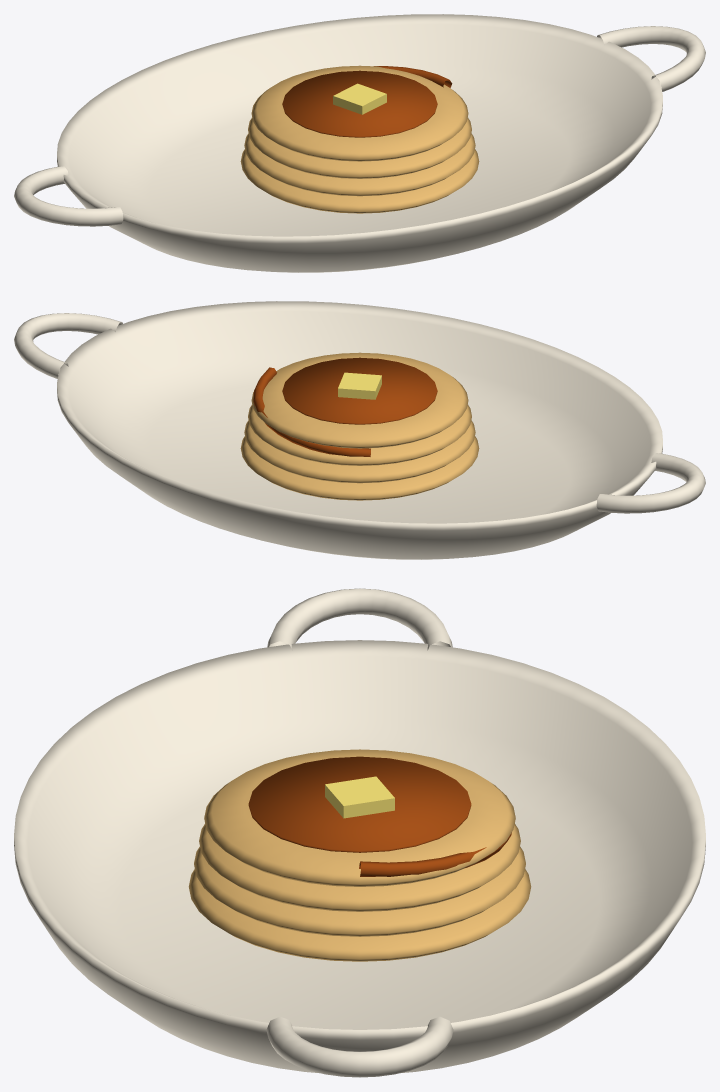
File: meal_pancake_stack_serving.glb
3 views of the same model, one above another, from view 1: azimuth 30°, elevation 25°; view 2: azimuth 150°, elevation 25°; view 3: azimuth 270°, elevation 25° (orthographic). The views are drawn at different scales.
Visible parts, largest first — view 1: DishGeometry, FoodGeometry; view 2: DishGeometry, FoodGeometry; view 3: DishGeometry, FoodGeometry.
Part boxes in pixels (x1,y1,x2,y2): DishGeometry: (14,14,705,272); FoodGeometry: (240,65,479,213); DishGeometry: (14,301,705,559); FoodGeometry: (240,352,479,500); DishGeometry: (14,588,705,1077); FoodGeometry: (188,749,531,961).
Size of the model in its own units: 0.492 by 0.0662 by 0.303.
